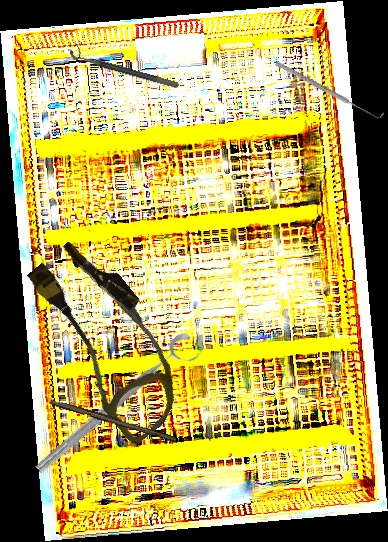Cannula: (7, 229, 210, 448)
Fixation Ring: (31, 329, 205, 487), (66, 41, 183, 90)
Hook Surgical: (273, 56, 386, 123)
Scalpel Handle: (49, 397, 178, 443)
